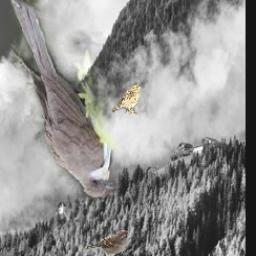Cuckoo: (12, 0, 118, 199)
Sparrow: (83, 230, 129, 256), (111, 83, 141, 115)
